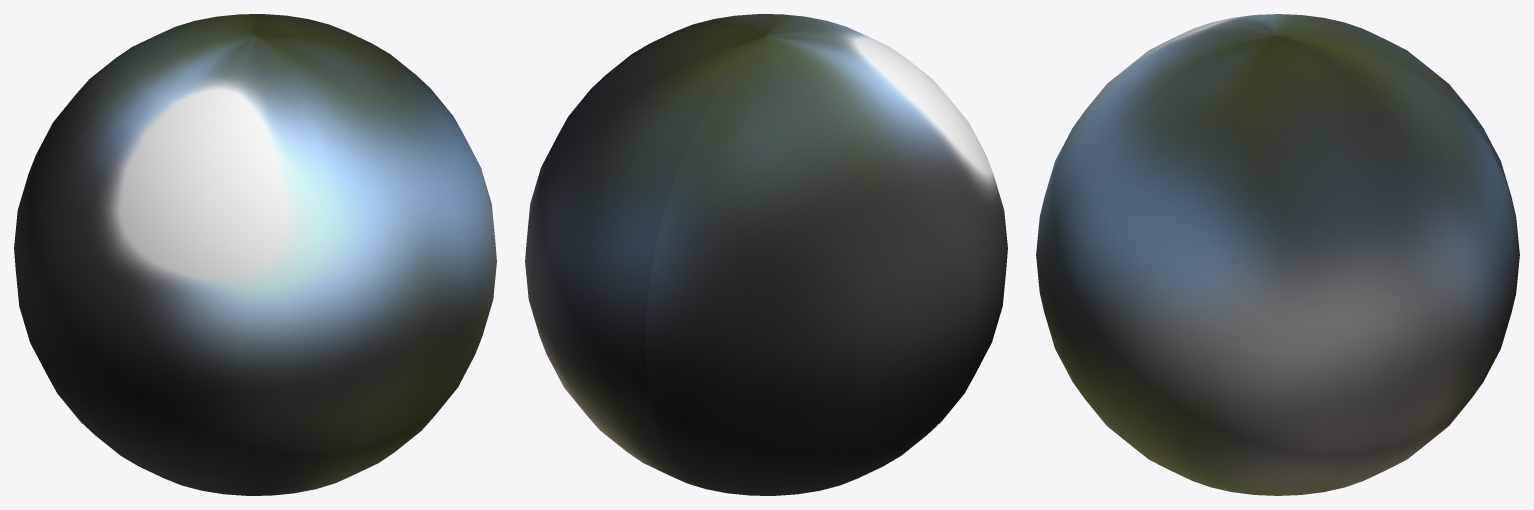
File: sky_sphere.glb
3 views of the same model, side by side, from view 1: azimuth 30°, elevation 25°; view 2: azimuth 150°, elevation 25°; view 3: azimuth 270°, elevation 25° (orthographic).
Parts seen in each view (by area): view 1: Grid; view 2: Grid; view 3: Grid.
Boxes of the visible parts, box(x1,y1,x2,y2) form: Grid: box(14, 14, 496, 495); Grid: box(525, 14, 1007, 495); Grid: box(1036, 14, 1519, 495).
Bounding box in the file's own units: 1000 × 1000 × 1000.
1 material, 1 textured.
